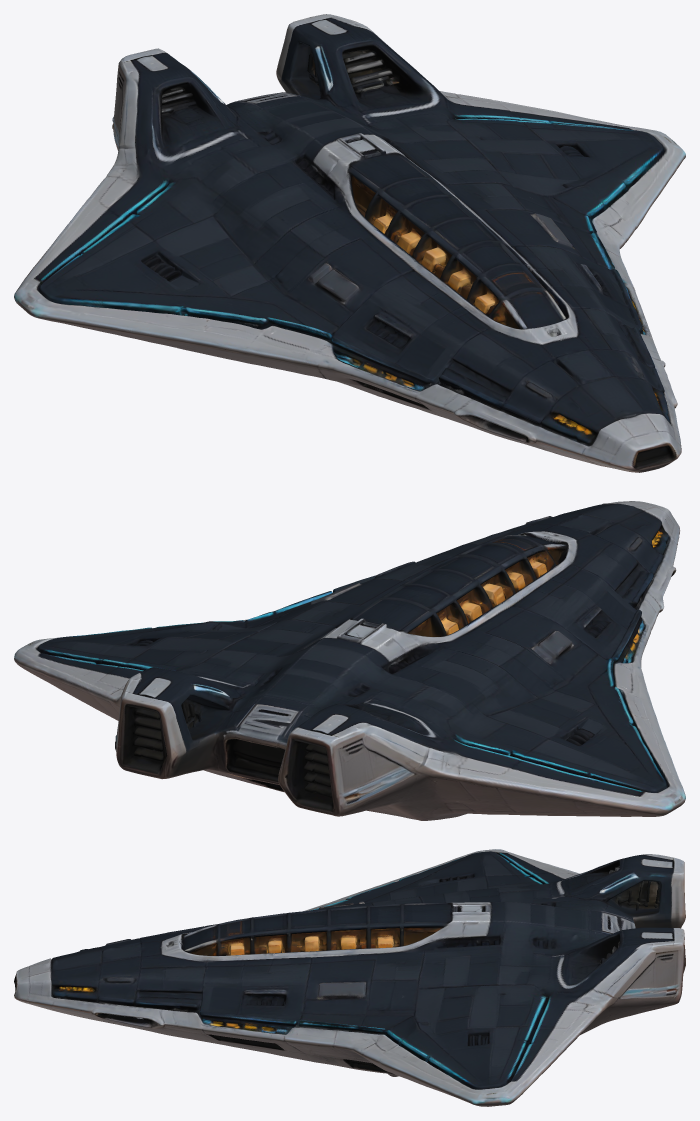
Rendered from kestrel-tripo-h3_1.glb.
The picture shows the model from 3 angles, top to bottom: view 1: azimuth 30°, elevation 25°; view 2: azimuth 150°, elevation 25°; view 3: azimuth 270°, elevation 25°; orthographic projection. The views are drawn at different scales.
Visible parts, largest first — view 1: tripo_node_131b61c2-9b68-4079-a2cc-1128515a9faa; view 2: tripo_node_131b61c2-9b68-4079-a2cc-1128515a9faa; view 3: tripo_node_131b61c2-9b68-4079-a2cc-1128515a9faa.
Part boxes in pixels (x1=…): tripo_node_131b61c2-9b68-4079-a2cc-1128515a9faa: x1=14, y1=14, x2=685, y2=472; tripo_node_131b61c2-9b68-4079-a2cc-1128515a9faa: x1=14, y1=501, x2=685, y2=820; tripo_node_131b61c2-9b68-4079-a2cc-1128515a9faa: x1=14, y1=849, x2=685, y2=1106.
Size of the model in its own units: 0.8765 by 0.2475 by 1.
Materials: 1 (1 with a texture image).
